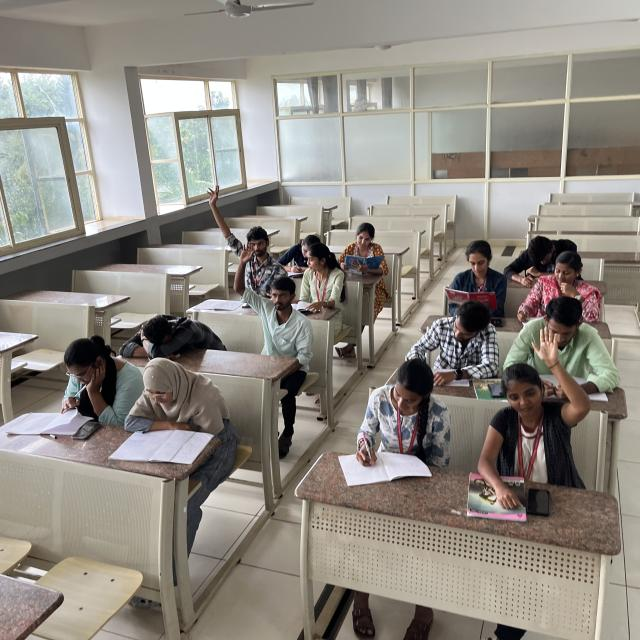Hand Rising: (482, 335, 596, 482), (234, 230, 304, 364), (205, 175, 263, 290)
Reading: (121, 356, 229, 461), (40, 324, 121, 428), (437, 237, 511, 307), (334, 218, 394, 282)
Sleeping: (113, 291, 233, 369), (506, 223, 564, 285)
Writing: (350, 354, 446, 481), (415, 299, 504, 382), (274, 228, 316, 277)
